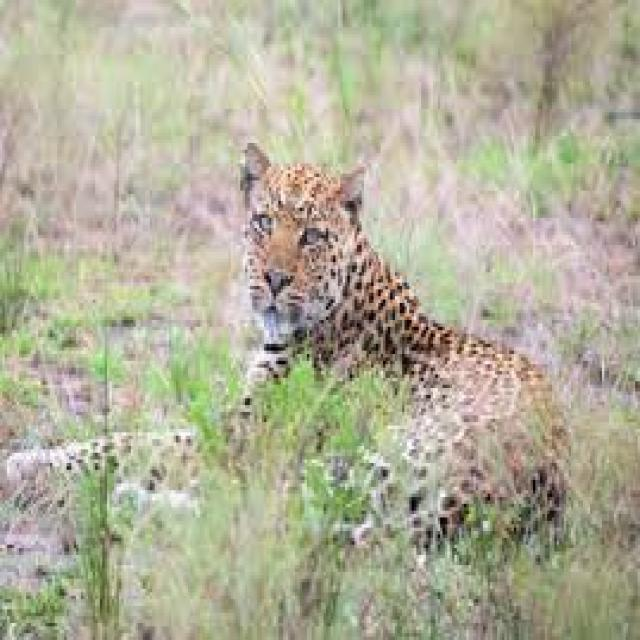Leopard: (238, 139, 574, 539)
